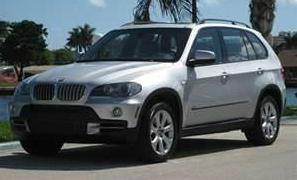front_view: (8, 79, 146, 143)
headlight: (85, 82, 146, 104)
side_glass: (192, 29, 272, 66)
